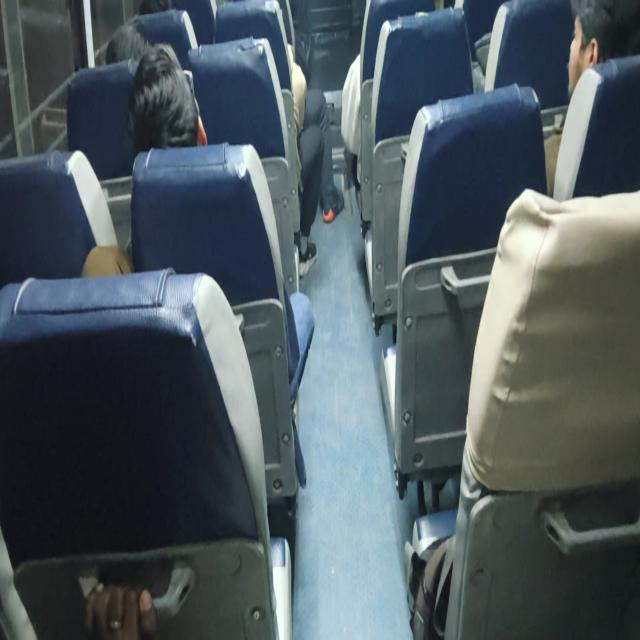person: (81, 41, 315, 400), (214, 1, 344, 277), (542, 0, 638, 195), (126, 42, 208, 154), (566, 0, 639, 101), (83, 580, 157, 638)
